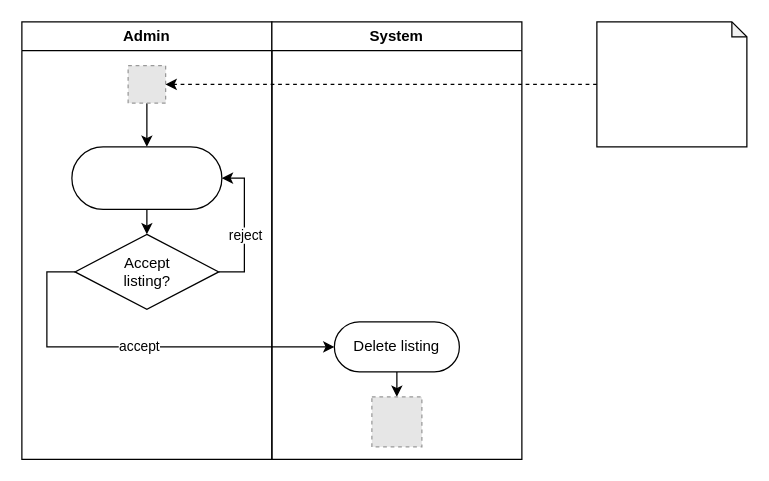
Image size: 769x481. Some labels were removed from this diagram. Grey dashed boxes stand in for pictures. The shapes that lost their labels are listed below. From the top down, each one's centre as x and y in pixels, then its label:
(x=671, y=84): Admin is logged in and its in the "Feed" perspective of the moderations page
(x=146, y=177): Show unmoderated listing
